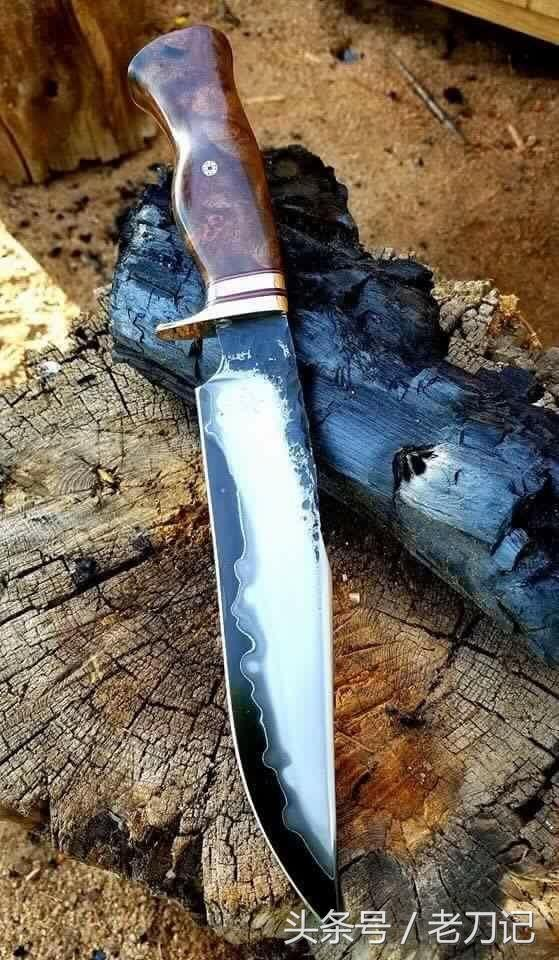knife: (100, 27, 443, 922)
